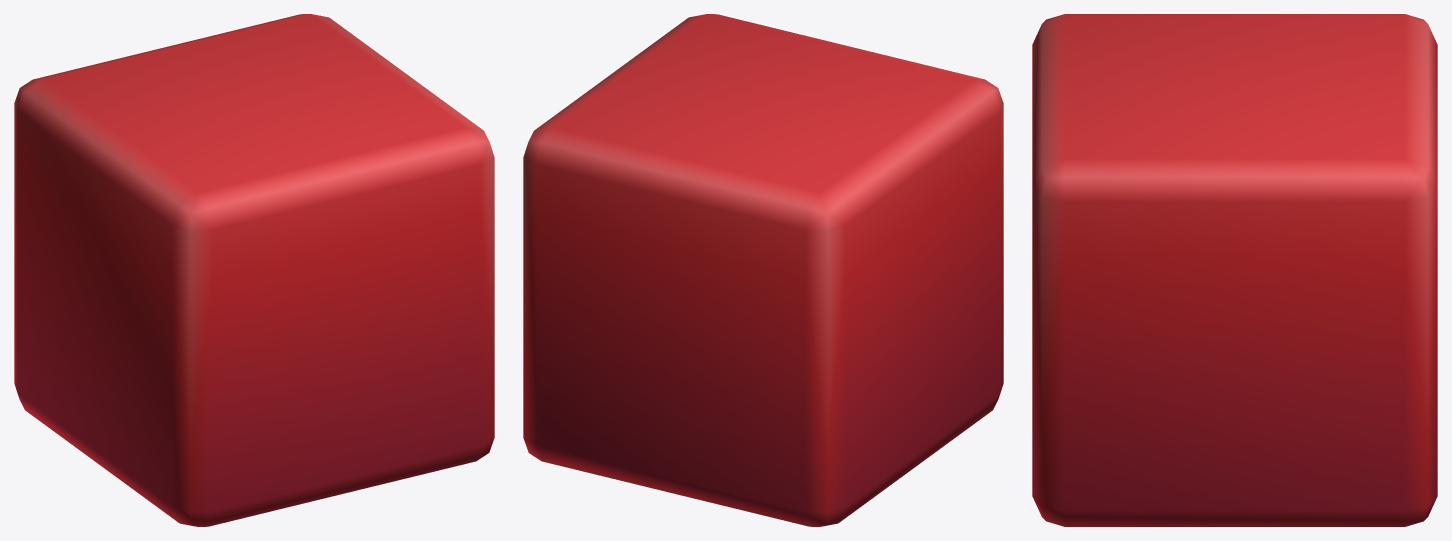
File: cube-red.glb
3 views of the same model, side by side, from view 1: azimuth 30°, elevation 25°; view 2: azimuth 150°, elevation 25°; view 3: azimuth 270°, elevation 25° (orthographic). The views are drawn at different scales.
Visible parts, largest first — view 1: cube_red; view 2: cube_red; view 3: cube_red.
Boxes of the visible parts, bbox=[...] form: cube_red: bbox=[14, 14, 494, 526]; cube_red: bbox=[523, 14, 1003, 526]; cube_red: bbox=[1032, 14, 1437, 526].
Bounding box in the file's own units: 0.5 × 0.5 × 0.5.
Materials: 1 (1 with a texture image).
